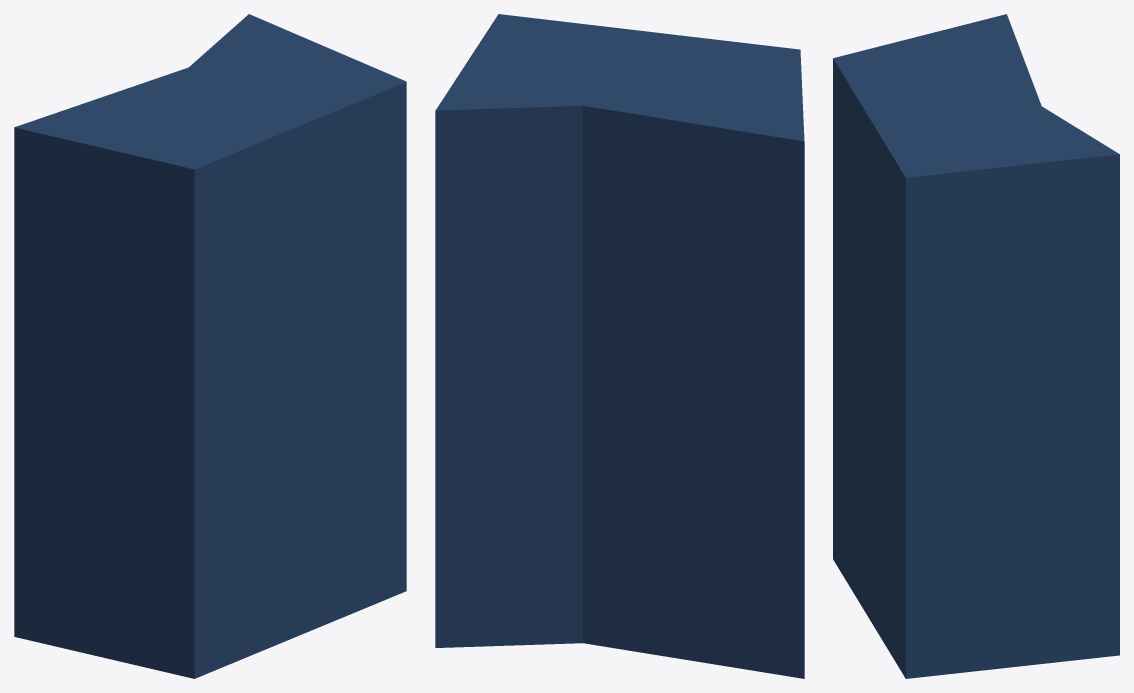
The model's file is near-15-27360-14877.2160b748.glb.
3 renders of one model, left to right at view 1: azimuth 30°, elevation 25°; view 2: azimuth 150°, elevation 25°; view 3: azimuth 270°, elevation 25°, orthographic. The views are drawn at different scales.
Size of the model in its own units: 12.79 by 18.24 by 9.46.
